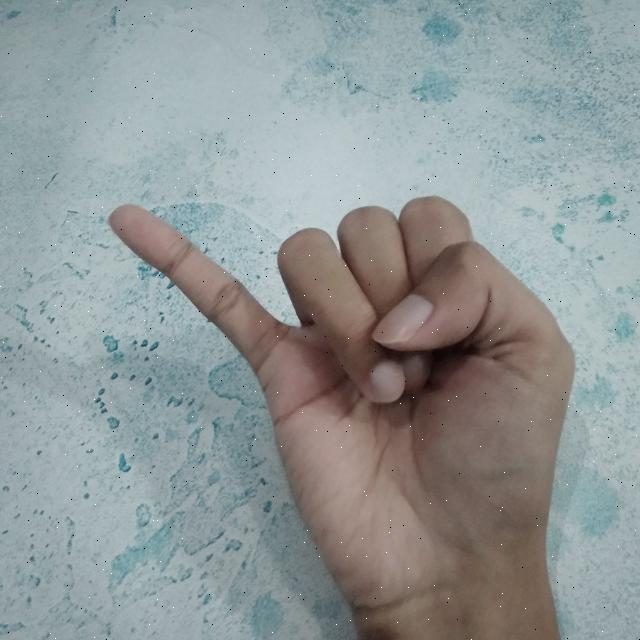I: (107, 193, 578, 640)
